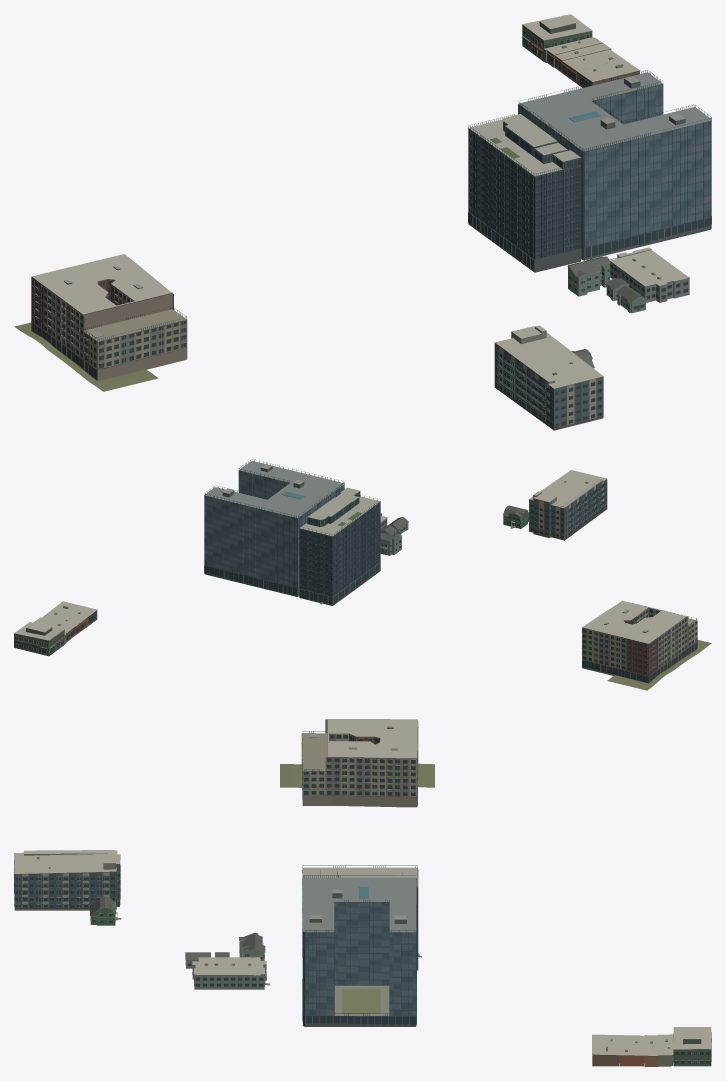
The model's file is site.glb.
3 views of the same model, one above another, from view 1: azimuth 30°, elevation 25°; view 2: azimuth 150°, elevation 25°; view 3: azimuth 270°, elevation 25° (orthographic). The views are drawn at different scales.
Parts seen in each view (by area): view 1: roof-0e2e42c5, chapter-eugene, roof-c041bc83, east14-712, roof-4c964092, roof-0fe87b8b, east-thirteenth-blocks-paving, east14-751-rear, alder-1239-1249, alder-1231-1233; view 2: roof-0e2e42c5, chapter-eugene, roof-c041bc83, east14-712, roof-0fe87b8b, east-thirteenth-blocks-paving, alder-1239-1249, roof-ea30c6e6, alder-1231-1233, east14-751-rear; view 3: roof-0e2e42c5, roof-c041bc83, east14-712, roof-4c964092, chapter-eugene, roof-0fe87b8b, east-thirteenth-blocks-paving, alder-1239-1249, alder-1231-1233, roof-ea30c6e6, east14-751-rear.
Boxes of the visible parts, bbox=[...] form: roof-0e2e42c5: bbox=[518, 70, 711, 260]; chapter-eugene: bbox=[468, 114, 581, 272]; roof-c041bc83: bbox=[31, 254, 187, 380]; east14-712: bbox=[494, 325, 603, 430]; roof-4c964092: bbox=[609, 247, 689, 302]; roof-0fe87b8b: bbox=[522, 14, 592, 61]; east-thirteenth-blocks-paving: bbox=[14, 322, 158, 391]; east14-751-rear: bbox=[567, 256, 610, 296]; alder-1239-1249: bbox=[576, 59, 640, 87]; alder-1231-1233: bbox=[562, 49, 623, 83]; roof-0e2e42c5: bbox=[204, 459, 344, 596]; chapter-eugene: bbox=[299, 487, 380, 605]; roof-c041bc83: bbox=[581, 600, 697, 683]; east14-712: bbox=[529, 470, 607, 540]; roof-0fe87b8b: bbox=[14, 622, 65, 656]; east-thirteenth-blocks-paving: bbox=[319, 526, 711, 690]; alder-1239-1249: bbox=[52, 601, 97, 627]; roof-ea30c6e6: bbox=[503, 505, 528, 528]; alder-1231-1233: bbox=[42, 610, 85, 635]; east14-751-rear: bbox=[380, 533, 401, 555]; roof-0e2e42c5: bbox=[302, 875, 416, 1026]; roof-c041bc83: bbox=[301, 719, 418, 807]; east14-712: bbox=[14, 850, 120, 910]; roof-4c964092: bbox=[192, 957, 266, 989]; chapter-eugene: bbox=[302, 865, 418, 970]; roof-0fe87b8b: bbox=[673, 1027, 711, 1066]; east-thirteenth-blocks-paving: bbox=[117, 763, 434, 985]; alder-1239-1249: bbox=[592, 1034, 619, 1066]; alder-1231-1233: bbox=[619, 1035, 644, 1066]; roof-ea30c6e6: bbox=[90, 896, 117, 925]; east14-751-rear: bbox=[239, 932, 265, 960].
Bounding box in the file's own units: 302 × 46.76 × 293.
